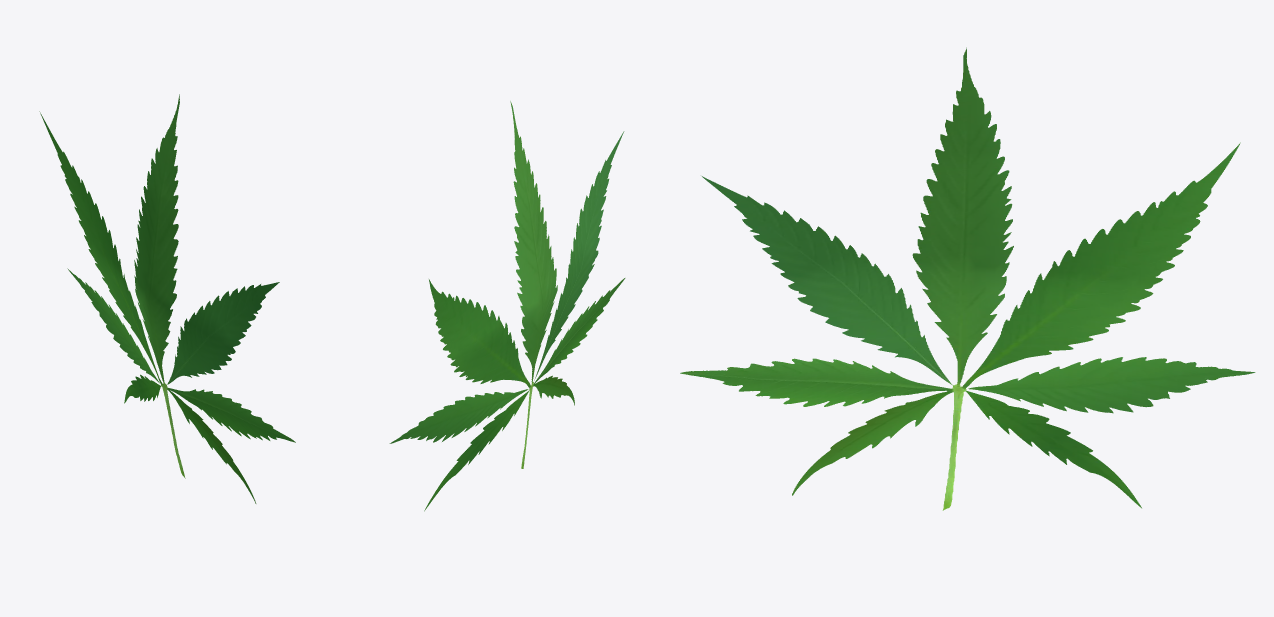
The model's file is leaf.glb.
3 views of the same model, side by side, from view 1: azimuth 30°, elevation 25°; view 2: azimuth 150°, elevation 25°; view 3: azimuth 270°, elevation 25° (orthographic). The views are drawn at different scales.
Visible parts, largest first — view 1: 2000px-Cannabis_leaf_2_COLOR_0; view 2: 2000px-Cannabis_leaf_2_COLOR_0; view 3: 2000px-Cannabis_leaf_2_COLOR_0.
Boxes of the visible parts, bbox=[...] form: 2000px-Cannabis_leaf_2_COLOR_0: bbox=[39, 94, 295, 503]; 2000px-Cannabis_leaf_2_COLOR_0: bbox=[389, 101, 625, 511]; 2000px-Cannabis_leaf_2_COLOR_0: bbox=[680, 47, 1255, 510].
Size of the model in its own units: 0.2022 by 0.9376 by 0.9242.
1 material, 1 textured.
